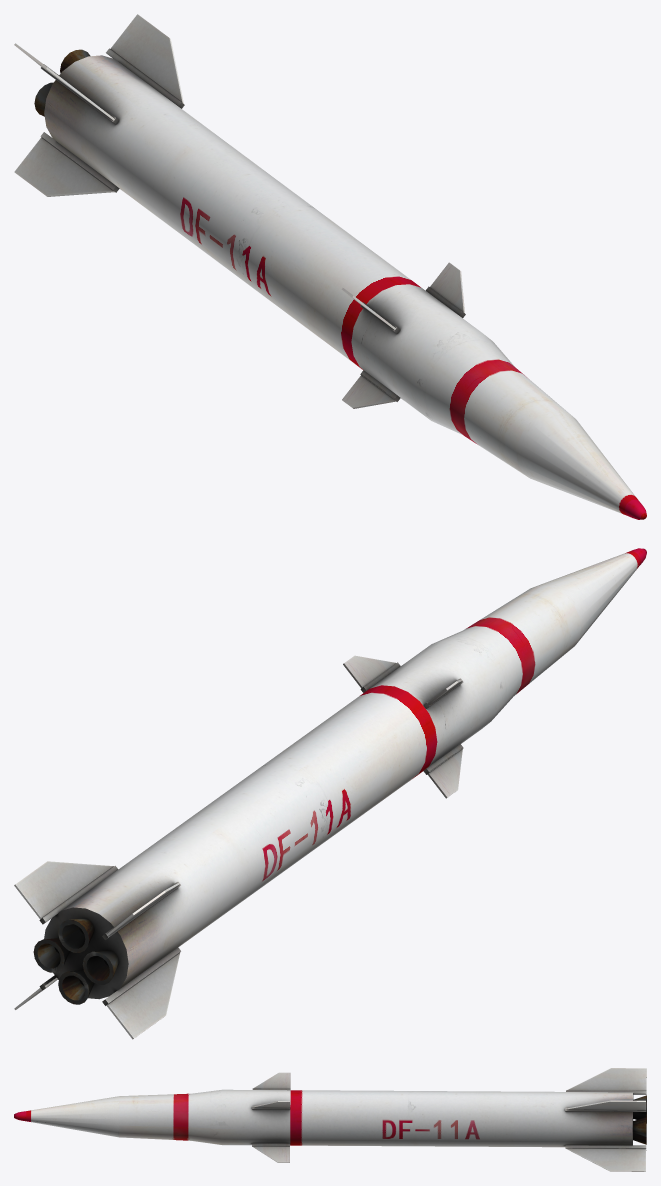
Rendered from missilez.glb.
The picture shows the model from 3 angles, top to bottom: view 1: azimuth 30°, elevation 25°; view 2: azimuth 150°, elevation 25°; view 3: azimuth 270°, elevation 25°; orthographic projection. The views are drawn at different scales.
Visible parts, largest first — view 1: Dd; view 2: Dd; view 3: Dd.
Part boxes in pixels (x1=…): Dd: x1=14, y1=14, x2=646, y2=519; Dd: x1=14, y1=548, x2=646, y2=1039; Dd: x1=14, y1=1068, x2=646, y2=1171.
Size of the model in its own units: 2.28 by 2.27 by 18.29.
1 material, 1 textured.
